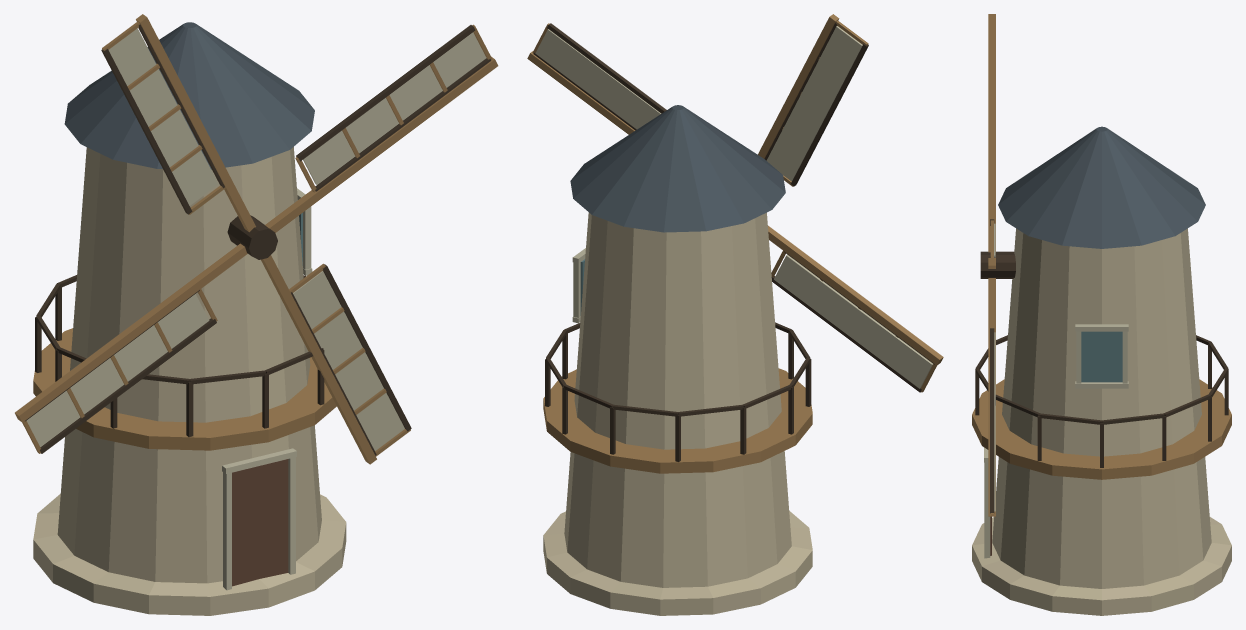
Rendered from Building_Landmark_Windmill_001_LOD1.glb.
3 renders of one model, left to right at view 1: azimuth 30°, elevation 25°; view 2: azimuth 150°, elevation 25°; view 3: azimuth 270°, elevation 25°, orthographic. The views are drawn at different scales.
Parts seen in each view (by area): view 1: Building_Landmark_Windmill_001_LOD1; view 2: Building_Landmark_Windmill_001_LOD1; view 3: Building_Landmark_Windmill_001_LOD1.
Boxes of the visible parts, x1=… form: Building_Landmark_Windmill_001_LOD1: x1=15, y1=14, x2=498, y2=615; Building_Landmark_Windmill_001_LOD1: x1=527, y1=14, x2=943, y2=615; Building_Landmark_Windmill_001_LOD1: x1=972, y1=14, x2=1231, y2=615.
Size of the model in its own units: 7.89 by 9.6 by 4.5.
